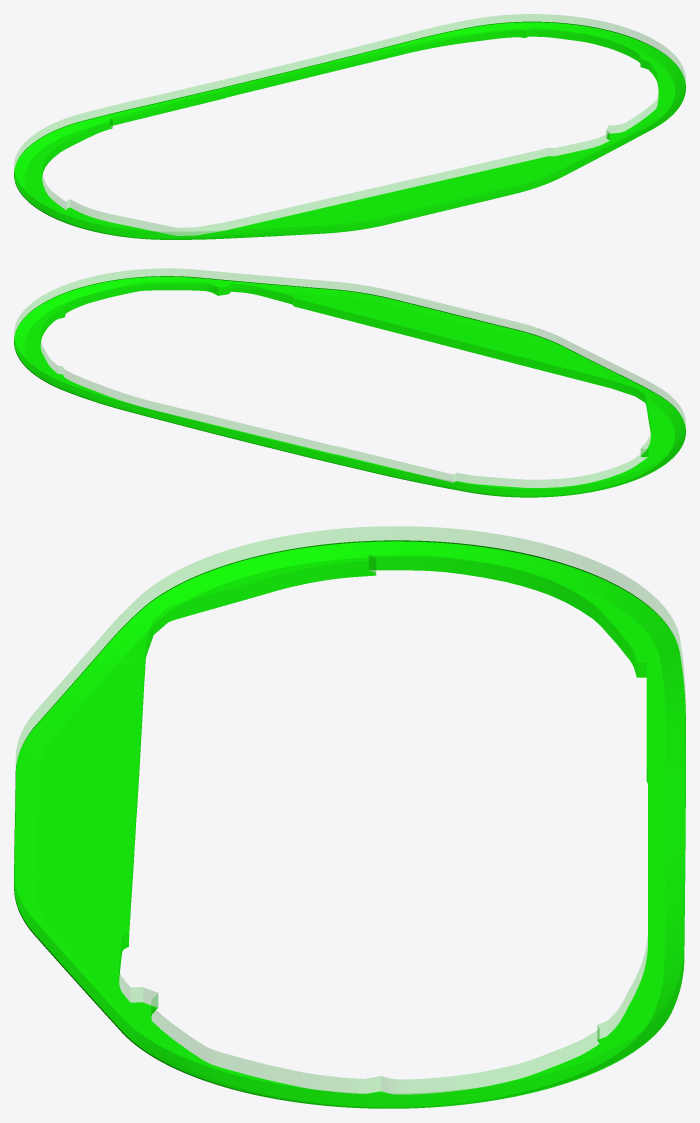
File: DgMotorSpeedwayColliders.FBX
The picture shows the model from 3 angles, top to bottom: view 1: azimuth 30°, elevation 25°; view 2: azimuth 150°, elevation 25°; view 3: azimuth 270°, elevation 25°; orthographic projection. The views are drawn at different scales.
Visible parts, largest first — view 1: PistaCharlotteColiderHiPoly, PistaCharlotteColiderLow, MeshColiderExterno, MeshColiderInterno, PistaCharlotteGramaColider, ColiderMuro; view 2: PistaCharlotteColiderHiPoly, PistaCharlotteColiderLow, MeshColiderExterno, MeshColiderInterno, PistaCharlotteGramaColider, ColiderMuro; view 3: PistaCharlotteColiderHiPoly, PistaCharlotteColiderLow, PistaCharlotteGramaColider, MeshColiderExterno, MeshColiderInterno, ColiderMuro.
Boxes of the visible parts, x1,y1,x2,y2 form: PistaCharlotteColiderHiPoly: (14, 22, 685, 239); PistaCharlotteColiderLow: (15, 24, 685, 239); MeshColiderExterno: (14, 14, 685, 239); MeshColiderInterno: (42, 28, 658, 235); PistaCharlotteGramaColider: (30, 33, 668, 235); ColiderMuro: (14, 21, 685, 239); PistaCharlotteColiderHiPoly: (14, 276, 685, 496); PistaCharlotteColiderLow: (25, 276, 685, 496); MeshColiderExterno: (14, 268, 685, 497); MeshColiderInterno: (41, 282, 650, 487); PistaCharlotteGramaColider: (31, 287, 658, 493); ColiderMuro: (14, 276, 685, 497); PistaCharlotteColiderHiPoly: (14, 541, 685, 1107); PistaCharlotteColiderLow: (14, 541, 685, 1107); PistaCharlotteGramaColider: (36, 561, 648, 1101); MeshColiderExterno: (14, 526, 685, 1108); MeshColiderInterno: (119, 555, 647, 1093); ColiderMuro: (14, 540, 685, 1108).
Bounding box in the file's own units: 956 × 17.5 × 479.
